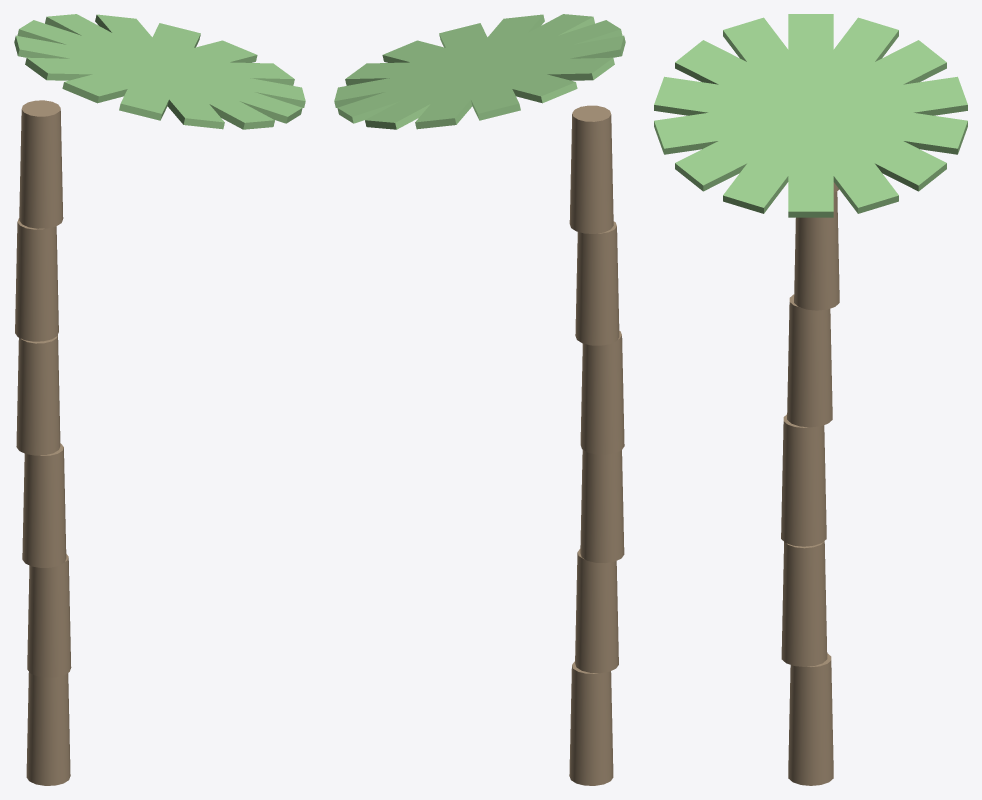
The model's file is TreePalm.glb.
3 views of the same model, side by side, from view 1: azimuth 30°, elevation 25°; view 2: azimuth 150°, elevation 25°; view 3: azimuth 270°, elevation 25° (orthographic). The views are drawn at different scales.
Visible parts, largest first — view 1: model; view 2: model; view 3: model.
Boxes of the visible parts, box(x1,y1,x2,y2) form: model: box(14, 14, 305, 785); model: box(334, 14, 625, 785); model: box(654, 14, 967, 785).
Size of the model in its own units: 2.5 by 6.43 by 2.42.
